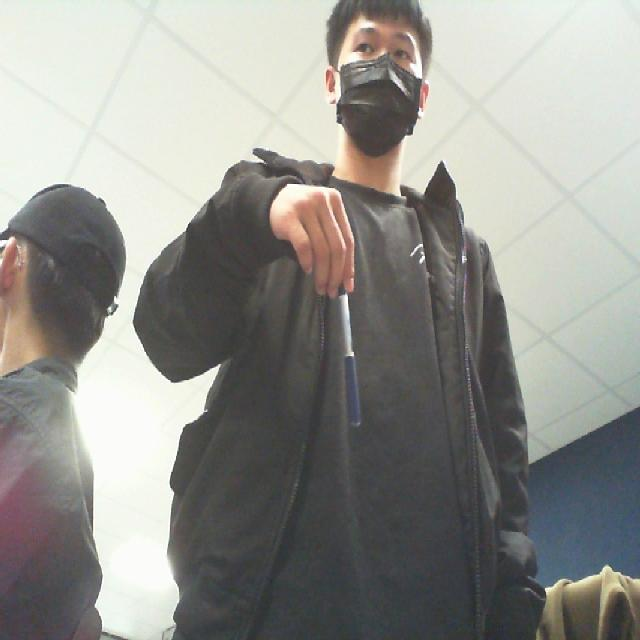Pen: (327, 278, 374, 460)
